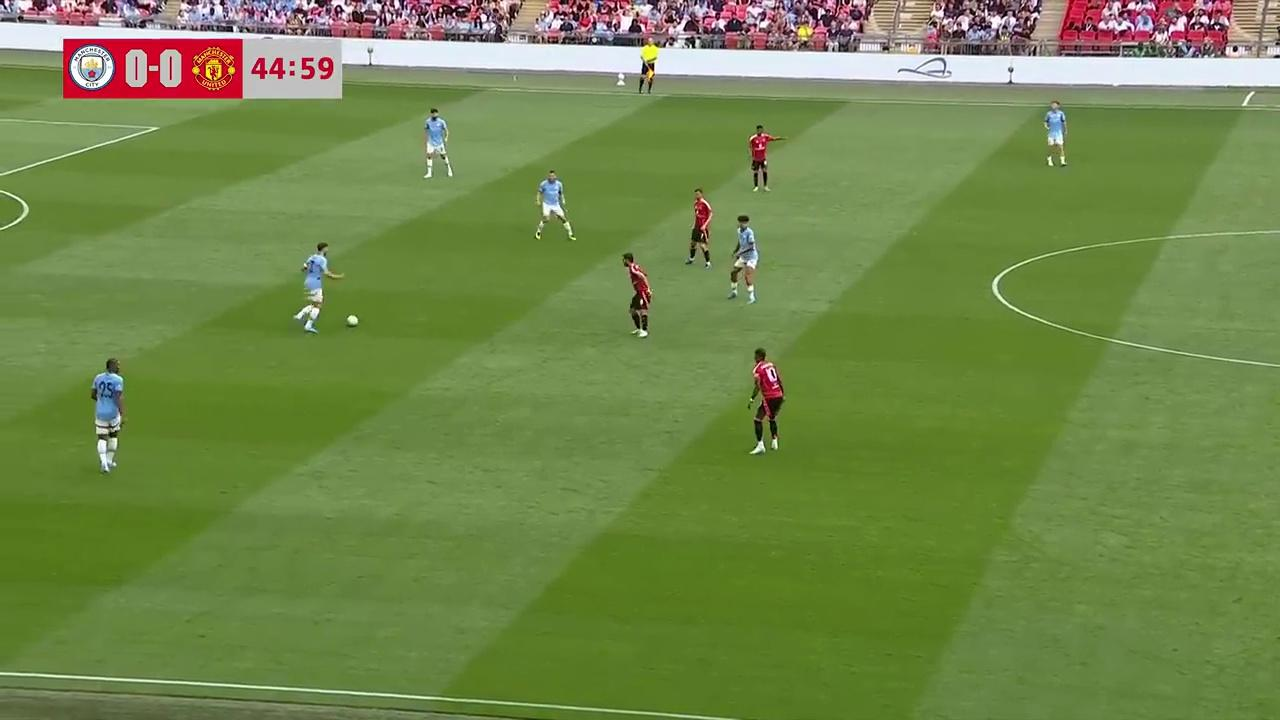ball: (344, 311, 359, 328)
player: (294, 241, 344, 333), (90, 357, 125, 474), (748, 348, 784, 456), (533, 168, 576, 242), (727, 214, 759, 303), (621, 252, 652, 337), (748, 123, 783, 192), (685, 187, 713, 268), (422, 106, 453, 179), (1043, 100, 1068, 168)
referee: (636, 37, 658, 94)
